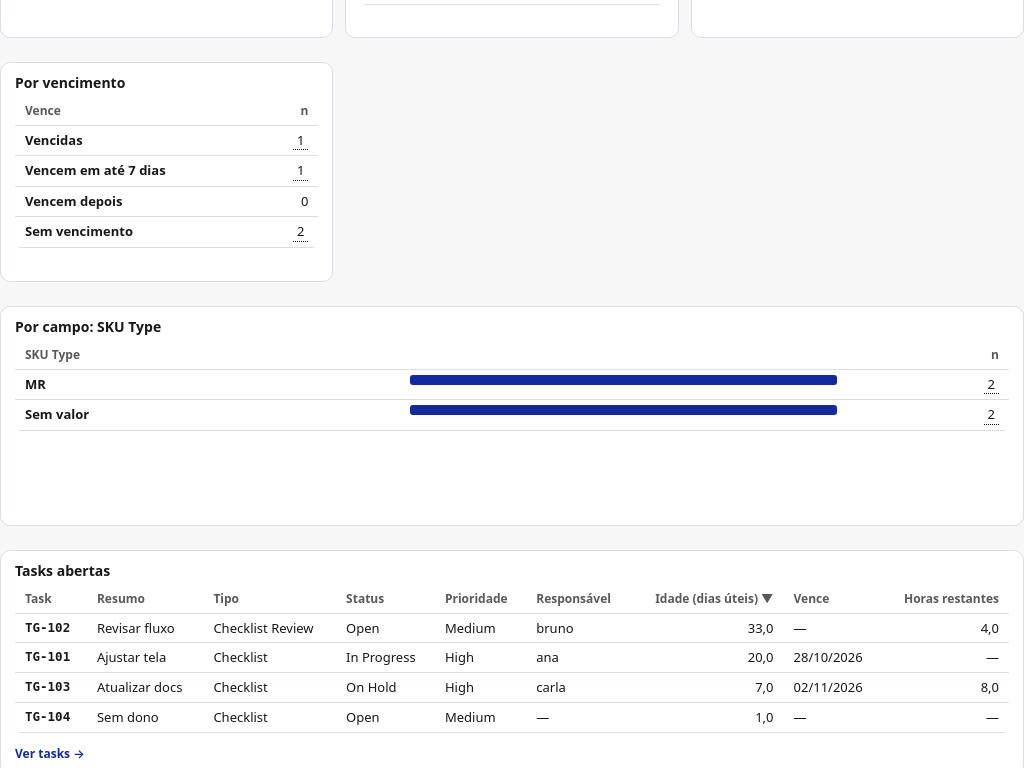
Test: tela Abertas › porCampoDoDicionarioAbreAGavetaDoGrupo
(page scrolled)
Click the button named "MR: 2" at (991, 384), box [984,375,999,394]
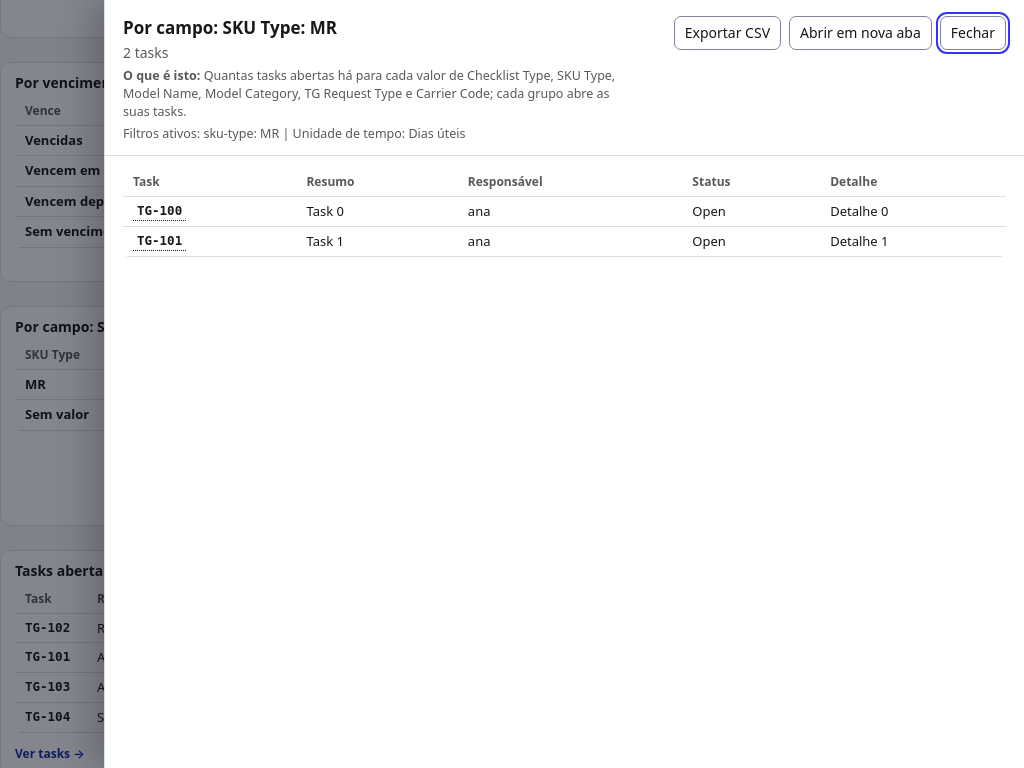
expect the dialog is shown: met
